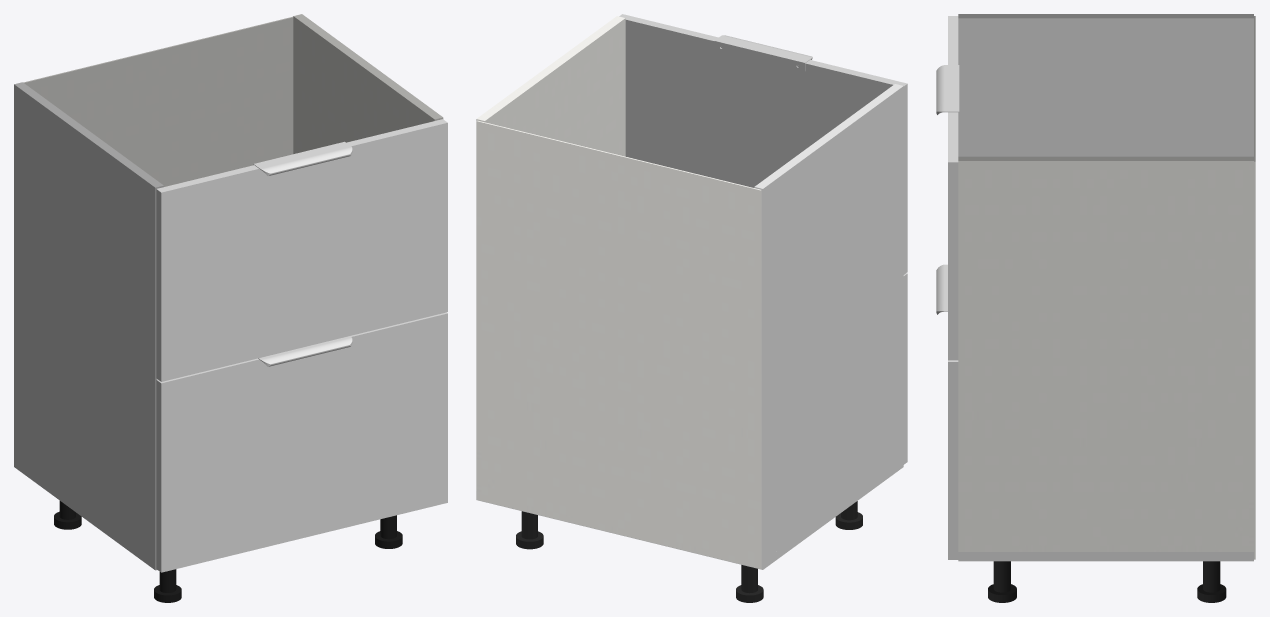
File: 1003-HOB-60-jpn.glb
3 renders of one model, left to right at view 1: azimuth 30°, elevation 25°; view 2: azimuth 150°, elevation 25°; view 3: azimuth 270°, elevation 25°, orthographic. The views are drawn at different scales.
Visible parts, largest first — view 1: door, carcass, handle, plinth; view 2: carcass, door, plinth, handle; view 3: carcass, door, plinth, handle.
Boxes of the visible parts, x1,y1,x2,y2 form: door: [156, 119, 447, 572]; carcass: [14, 14, 443, 570]; handle: [253, 141, 352, 366]; plinth: [54, 501, 402, 602]; carcass: [476, 16, 903, 569]; door: [619, 14, 907, 464]; plinth: [516, 501, 862, 602]; handle: [714, 35, 812, 71]; carcass: [958, 14, 1255, 561]; door: [948, 16, 958, 559]; plinth: [988, 561, 1226, 602]; handle: [936, 65, 959, 314].
Size of the model in its own units: 0.6 by 0.862 by 0.5513.
Materials: 4 (2 with a texture image).
